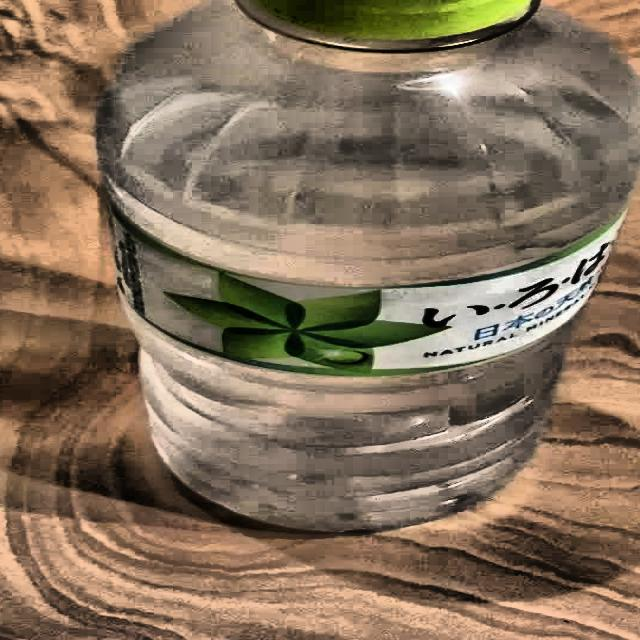plastic: (89, 0, 640, 535)
